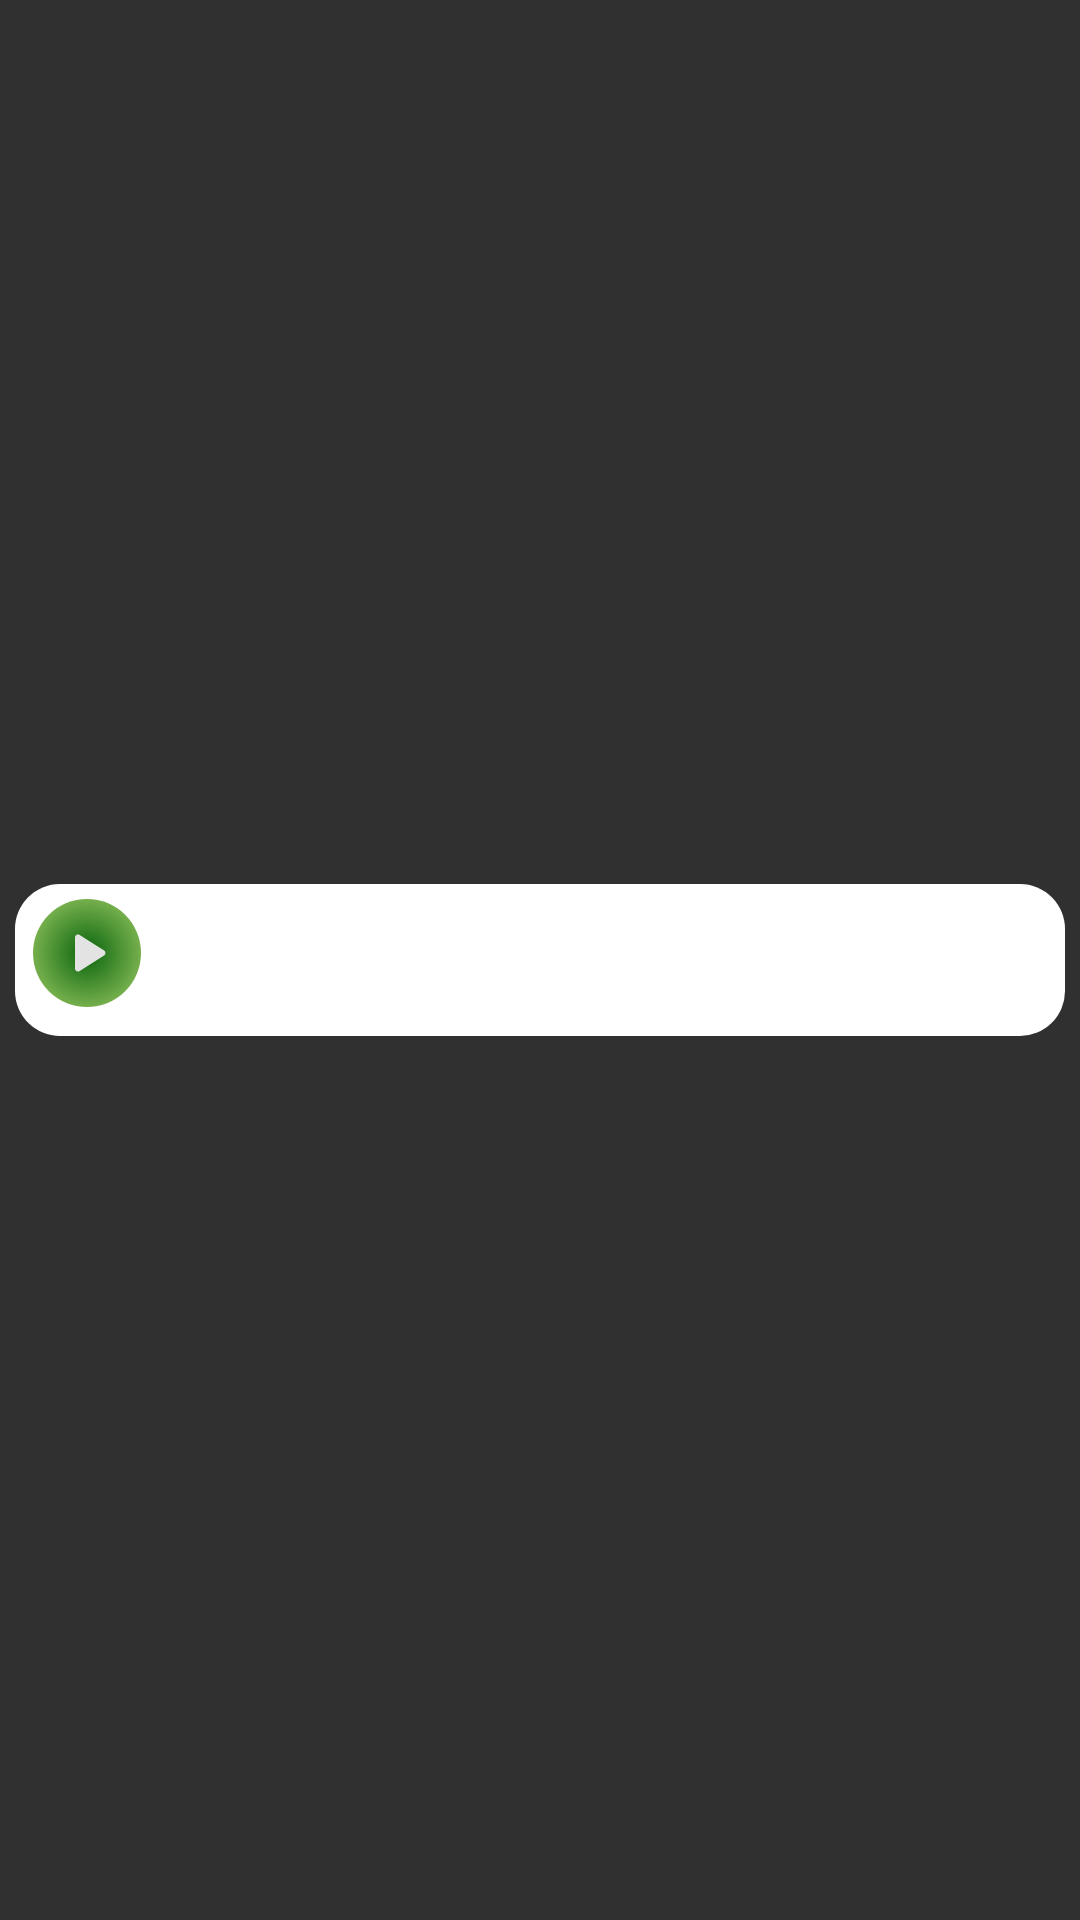

Screen size 1080 x 1920. Icon name, then its center in pixels as point (x, y):
play: point (87, 953)
